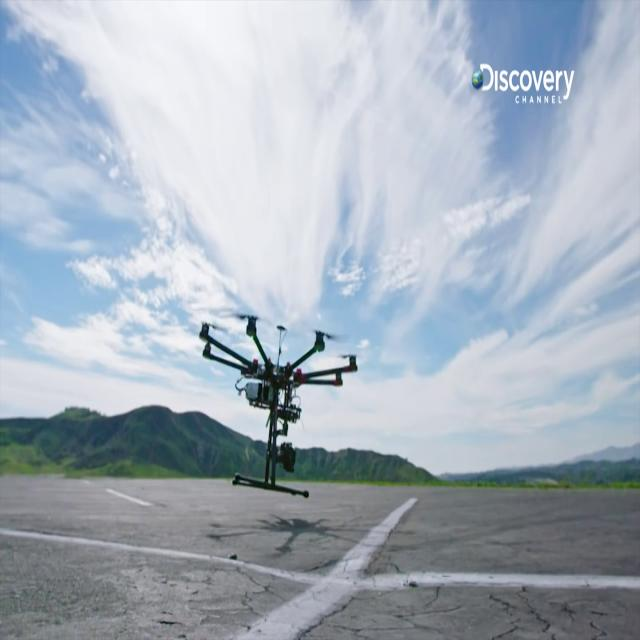drone: (185, 244, 387, 535)
